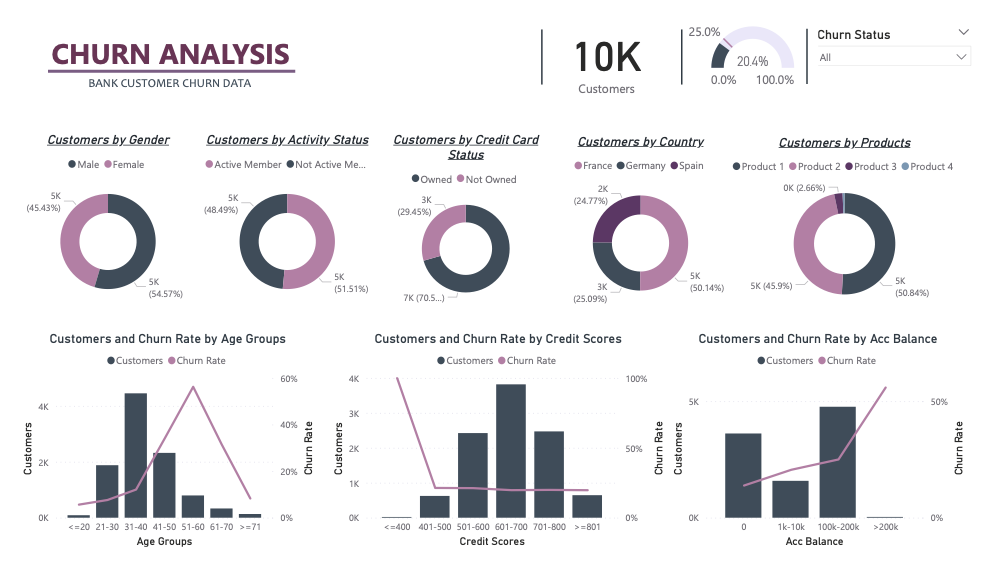

Layout of this report page (visuals, bound fields, positions):
{"tool":"powerbi","page":{"name":"Page 1","canvas":[1280,720],"ordinal":0},"visuals":[{"type":"shape","box":[11,0,1269.6,108.3],"z":0},{"type":"card","fields":{"Values":["Churn Prediction +.Customers"]},"box":[666.3,2.7,237.2,102.8],"z":1000},{"type":"donutChart","fields":{"Category":["Churn Prediction +.Gender"],"Y":["Churn Prediction +.Customers"]},"box":[0,152.2,239.9,239.9],"z":2000},{"type":"donutChart","fields":{"Y":["Churn Prediction +.Customers"],"Category":["Churn Prediction +.Activity Status"]},"box":[238.6,152.2,240,240],"z":3000},{"type":"donutChart","fields":{"Y":["Churn Prediction +.Customers"],"Category":["Churn Prediction +.Credit Card Status"]},"box":[477.1,152.2,240,240],"z":4000},{"type":"donutChart","fields":{"Y":["Churn Prediction +.Customers"],"Category":["Churn Prediction +.Country"]},"box":[710.2,153.6,240,240],"z":5000},{"type":"donutChart","fields":{"Y":["Churn Prediction +.Customers"],"Category":["Churn Prediction +.Products"]},"box":[941.9,154.9,320,240],"z":6000},{"type":"lineClusteredColumnComboChart","fields":{"Category":["Age by groups.Age Groups"],"Y":["Churn Prediction +.Customers"],"Y2":["Churn Prediction +.Churn Rate"]},"box":[0,416.8,400.3,293.4],"z":7000},{"type":"lineClusteredColumnComboChart","fields":{"Y":["Churn Prediction +.Customers"],"Y2":["Churn Prediction +.Churn Rate"],"Category":["Credit scores by groups.Credit Scores"]},"box":[414.1,416.8,452.4,293.4],"z":8000},{"type":"lineClusteredColumnComboChart","fields":{"Y":["Churn Prediction +.Customers"],"Y2":["Churn Prediction +.Churn Rate"],"Category":["Balance by Groups.Acc Balance"]},"box":[866.5,416.8,400.3,293.4],"z":9000},{"type":"slicer","fields":{"Values":["Churn Prediction +.Churn Status"]},"box":[1053,5.8,227.6,91.9],"z":10000},{"type":"gauge","fields":{"Y":["Churn Prediction +.Churn Rate"],"MinValue":["Min(Churn Prediction +.Min Churn Rate)"],"MaxValue":["Max(Churn Prediction +.Max Churn Rate)"],"TargetValue":["Min(Churn Prediction +.Target Churn)"]},"box":[863.8,0.3,202.9,102.8],"z":11000},{"type":"textbox","box":[39.8,16.5,360.6,67.2],"z":12000},{"type":"textbox","box":[89.1,71.3,237.2,37],"z":13000},{"type":"shape","box":[548.4,15.1,300.3,74],"z":14000},{"type":"shape","box":[734.9,15.1,300.3,74],"z":15000},{"type":"shape","box":[902.1,13.7,300.3,74],"z":16000},{"type":"shape","box":[39.8,52.1,330.4,38.4],"z":17000}]}

Visuals, with their boxes in screenshot pixels (x1, y1, x2, y2), scaled from the page's 1280x720 canvas onto the 996x576 screenshot:
shape: (9, 0, 995, 87)
card - Churn Prediction +.Customers: (518, 2, 703, 84)
donutChart - Churn Prediction +.Gender x Churn Prediction +.Customers: (0, 122, 187, 314)
donutChart - Churn Prediction +.Customers x Churn Prediction +.Activity Status: (186, 122, 372, 314)
donutChart - Churn Prediction +.Customers x Churn Prediction +.Credit Card Status: (371, 122, 558, 314)
donutChart - Churn Prediction +.Customers x Churn Prediction +.Country: (553, 123, 739, 315)
donutChart - Churn Prediction +.Customers x Churn Prediction +.Products: (733, 124, 982, 316)
lineClusteredColumnComboChart - Age by groups.Age Groups x Churn Prediction +.Customers: (0, 333, 311, 568)
lineClusteredColumnComboChart - Churn Prediction +.Customers x Churn Prediction +.Churn Rate: (322, 333, 674, 568)
lineClusteredColumnComboChart - Churn Prediction +.Customers x Churn Prediction +.Churn Rate: (674, 333, 986, 568)
slicer - Churn Prediction +.Churn Status: (819, 5, 995, 78)
gauge - Churn Prediction +.Churn Rate x Min(Churn Prediction +.Min Churn Rate): (672, 0, 830, 82)
textbox: (31, 13, 312, 67)
textbox: (69, 57, 254, 87)
shape: (427, 12, 660, 71)
shape: (572, 12, 806, 71)
shape: (702, 11, 936, 70)
shape: (31, 42, 288, 72)
